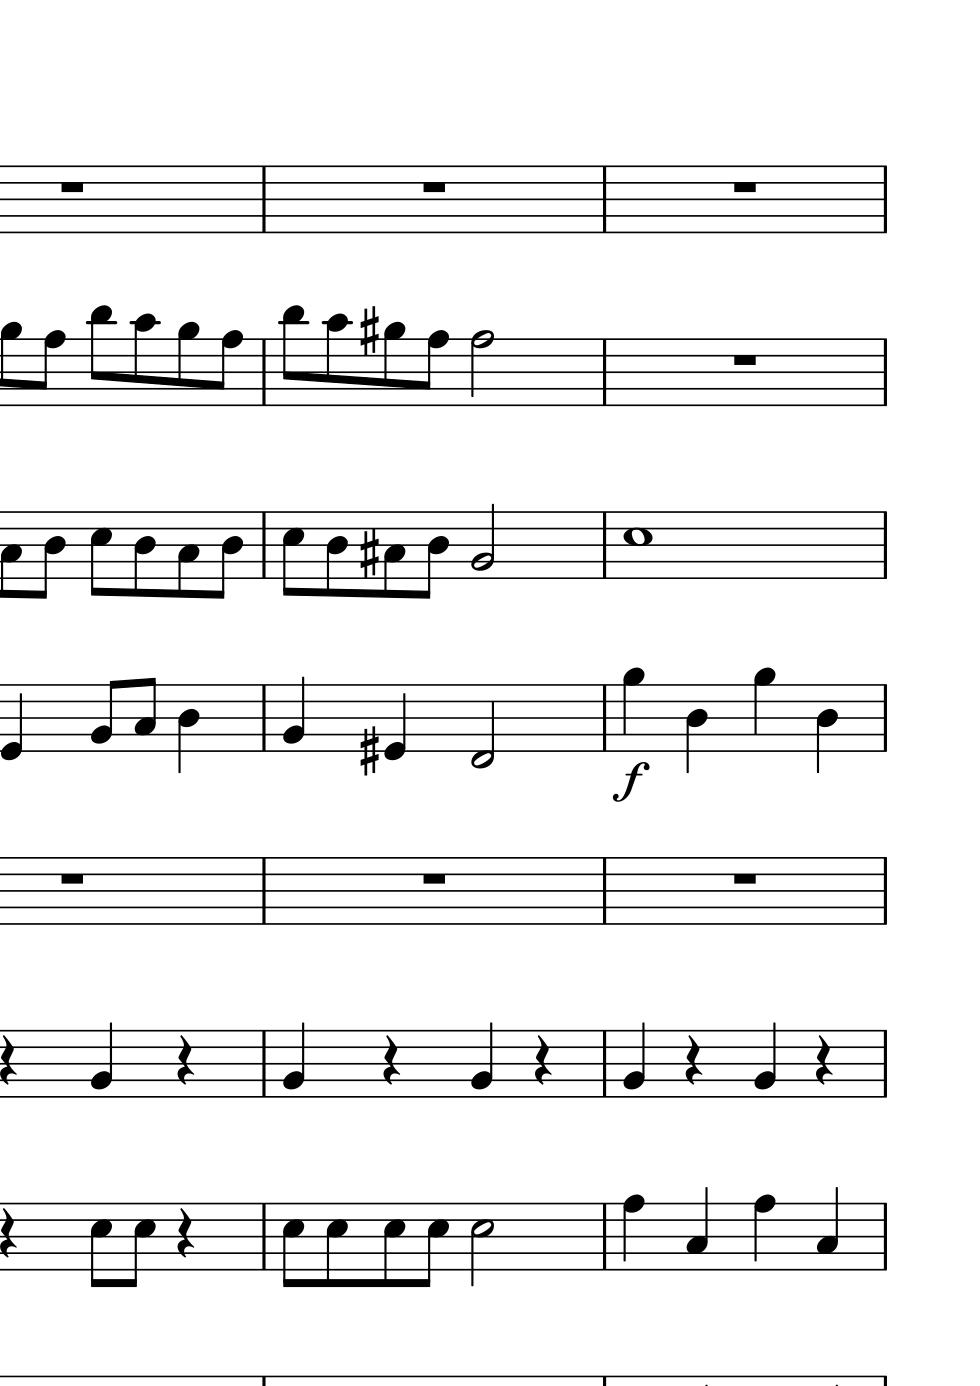1_5: (622, 510, 653, 583)
2_-1: (470, 683, 495, 769)
2_2: (470, 502, 496, 579)
2_5: (468, 1203, 493, 1288)
2_8: (469, 328, 496, 409)
4_0: (383, 682, 407, 762), (1, 683, 23, 761)
4_2: (469, 1020, 495, 1100), (752, 1020, 778, 1099), (280, 676, 307, 753), (281, 1020, 307, 1100), (622, 1021, 647, 1099), (89, 1020, 113, 1099)
4_3: (683, 1186, 710, 1271), (813, 1186, 839, 1271)
4_4: (813, 682, 839, 774), (683, 682, 708, 773), (175, 683, 200, 773)
4_8: (751, 1193, 777, 1273), (619, 1193, 645, 1273)
4_9: (751, 665, 776, 753), (620, 666, 646, 753)
8_10: (323, 312, 349, 409), (132, 312, 157, 408)
8_11: (279, 303, 307, 409), (87, 303, 113, 409)
8_2: (88, 679, 119, 753)
8_3: (174, 510, 200, 600), (380, 510, 406, 600), (1, 510, 23, 600), (132, 676, 156, 753)
8_4: (418, 510, 449, 602), (214, 510, 244, 601), (36, 510, 65, 601), (132, 510, 157, 599), (323, 509, 348, 599)
8_5: (125, 1201, 156, 1289), (419, 1201, 449, 1289), (279, 1201, 305, 1291), (87, 1201, 113, 1289), (380, 1201, 406, 1289), (279, 509, 304, 598), (323, 1201, 349, 1289), (88, 509, 112, 598)
8_8: (417, 328, 449, 408), (34, 329, 66, 408), (212, 329, 243, 409)
8_9: (175, 320, 200, 408), (380, 321, 405, 407), (1, 320, 21, 408)
Rests1: (56, 177, 87, 196), (55, 869, 87, 887), (729, 869, 760, 887), (418, 869, 449, 887), (729, 178, 760, 195), (729, 351, 760, 368), (418, 178, 449, 195)
Rests4: (681, 1034, 703, 1089), (380, 1033, 401, 1088), (174, 1034, 195, 1088), (531, 1034, 553, 1088), (811, 1034, 833, 1088), (174, 1207, 195, 1261)
Sharp: (357, 527, 380, 580), (357, 304, 379, 357), (357, 723, 379, 776)
Single_barline: (596, 1203, 614, 1268), (876, 165, 893, 234), (876, 1029, 893, 1098), (876, 338, 893, 406), (596, 1029, 613, 1096), (876, 1203, 893, 1270), (876, 684, 893, 751), (255, 339, 272, 405), (596, 512, 613, 578), (876, 512, 893, 578), (255, 1204, 272, 1268), (596, 686, 613, 750), (256, 166, 272, 233), (596, 166, 612, 233), (596, 339, 612, 406), (256, 1030, 272, 1096), (256, 858, 272, 924), (877, 858, 893, 924), (596, 858, 611, 924), (257, 513, 272, 578), (257, 686, 272, 750)
f: (610, 760, 649, 802)
